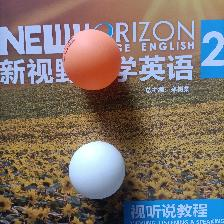WhiteBall: (67, 140, 125, 198)
YellowBall: (61, 28, 122, 90)
